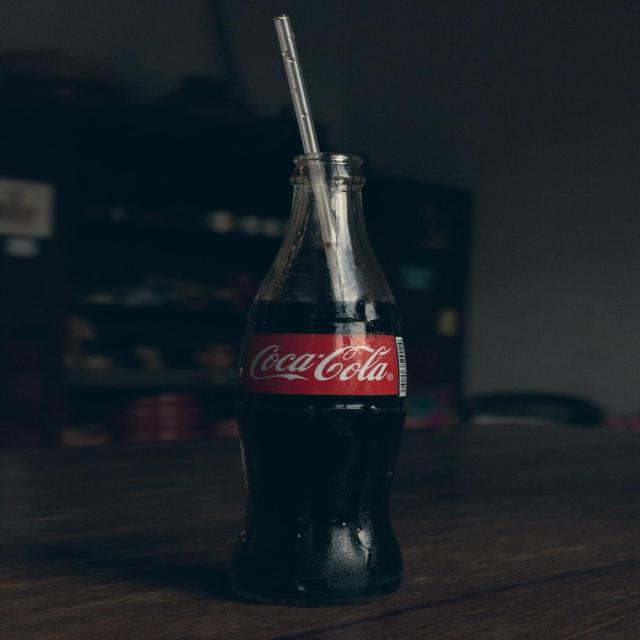coca-cola: (221, 144, 424, 609)
